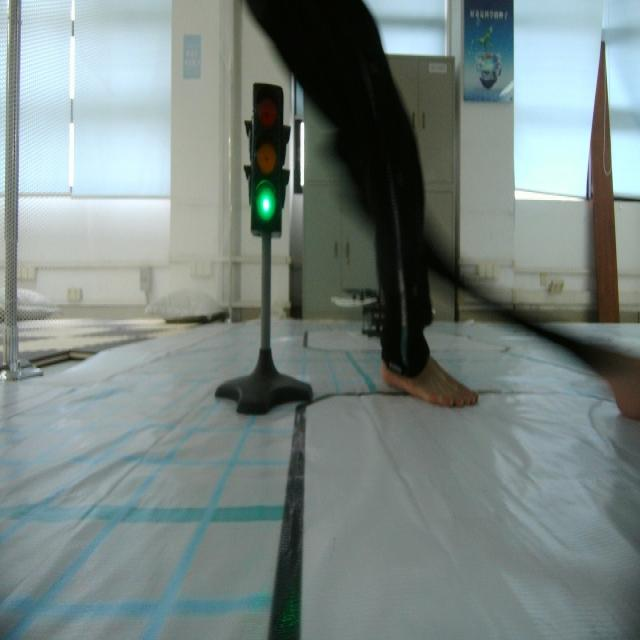green: (242, 70, 294, 246)
